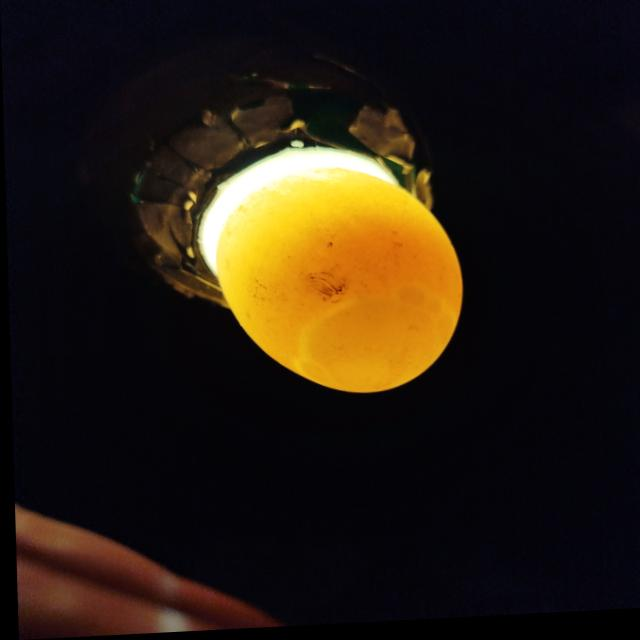Camara de Ar: (290, 289, 456, 396)
